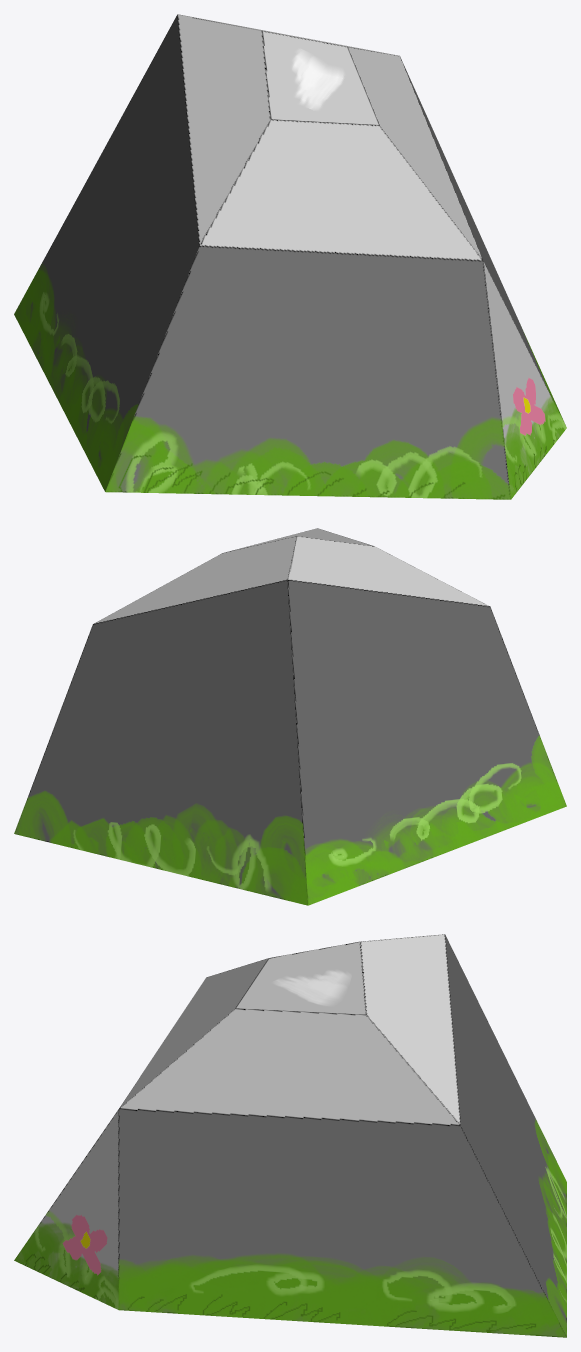
The model's file is obstacle2.fbx.
The picture shows the model from 3 angles, top to bottom: view 1: azimuth 30°, elevation 25°; view 2: azimuth 150°, elevation 25°; view 3: azimuth 270°, elevation 25°; orthographic projection. The views are drawn at different scales.
Visible parts, largest first — view 1: Plane; view 2: Plane; view 3: Plane.
Part boxes in pixels (x1=…): Plane: x1=14, y1=14, x2=566, y2=499; Plane: x1=14, y1=528, x2=566, y2=905; Plane: x1=14, y1=934, x2=566, y2=1337.
Bounding box in the file's own units: 216 × 146 × 247.
